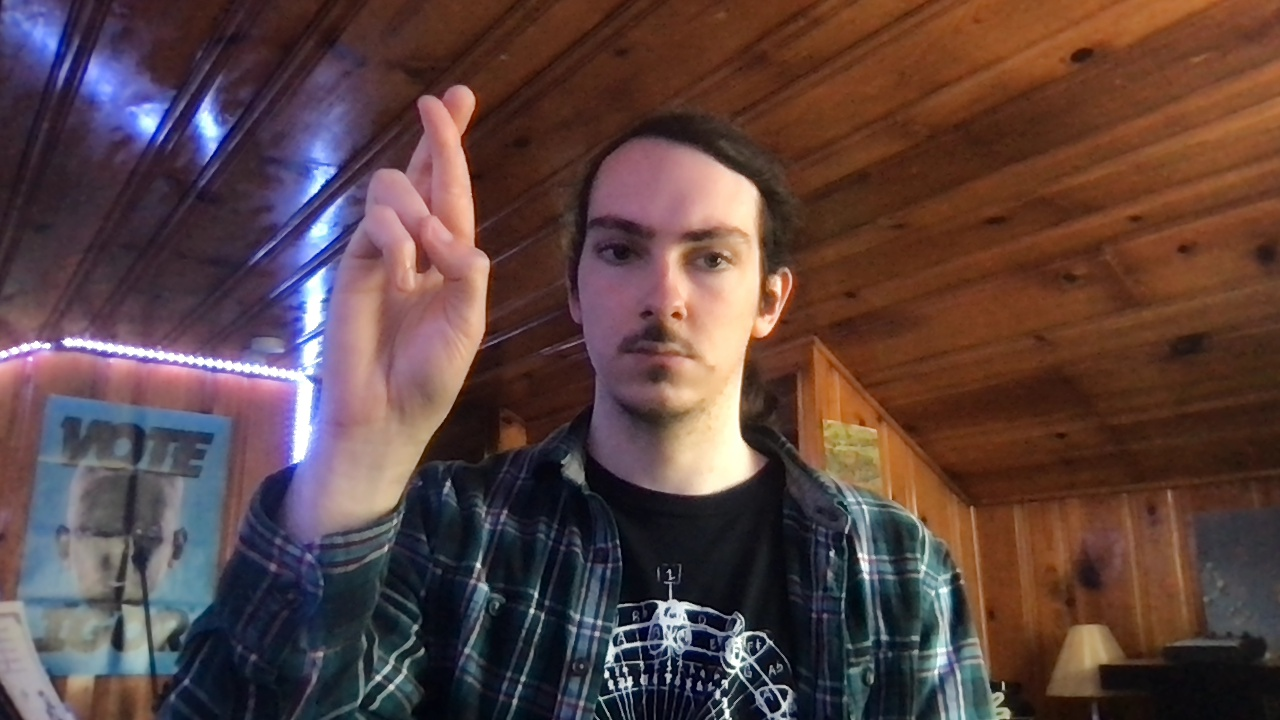r: (318, 84, 491, 428)
